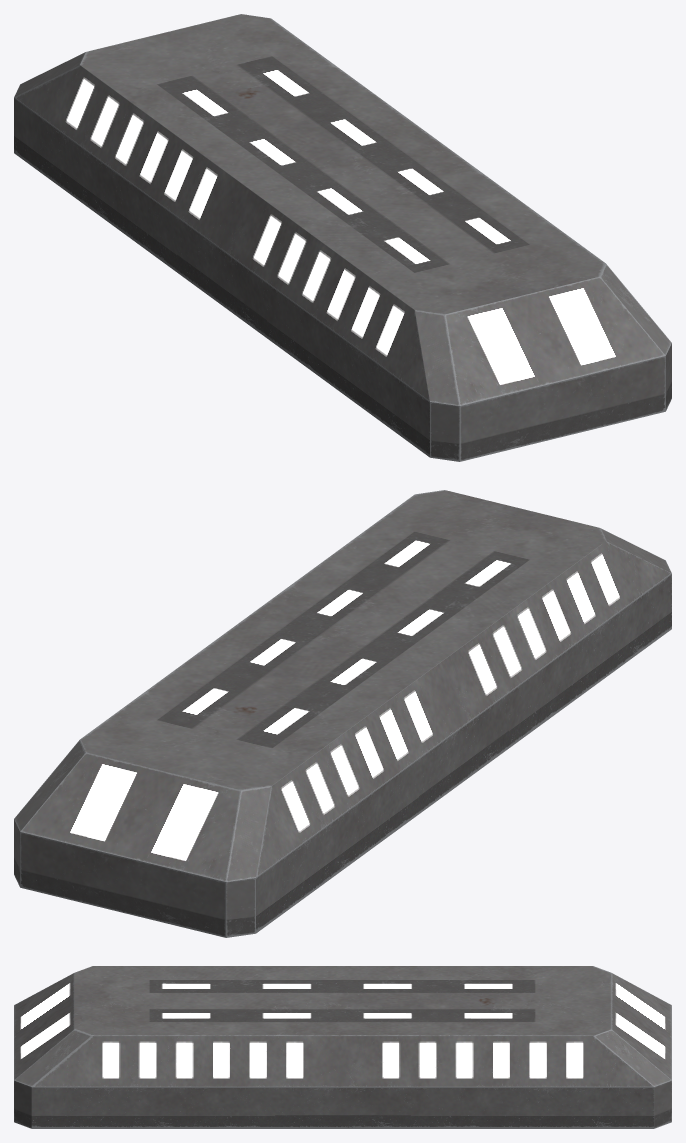
Rendered from platform_l_1.fbx.
3 renders of one model, top to bottom at view 1: azimuth 30°, elevation 25°; view 2: azimuth 150°, elevation 25°; view 3: azimuth 270°, elevation 25°, orthographic. The views are drawn at different scales.
Visible parts, largest first — view 1: platform_l_1; view 2: platform_l_1; view 3: platform_l_1.
Part boxes in pixels (x1=…): platform_l_1: x1=14, y1=14, x2=671, y2=461; platform_l_1: x1=14, y1=490, x2=671, y2=937; platform_l_1: x1=14, y1=966, x2=671, y2=1128.
Bounding box in the file's own units: 9.17 × 4.04 × 28.85.
